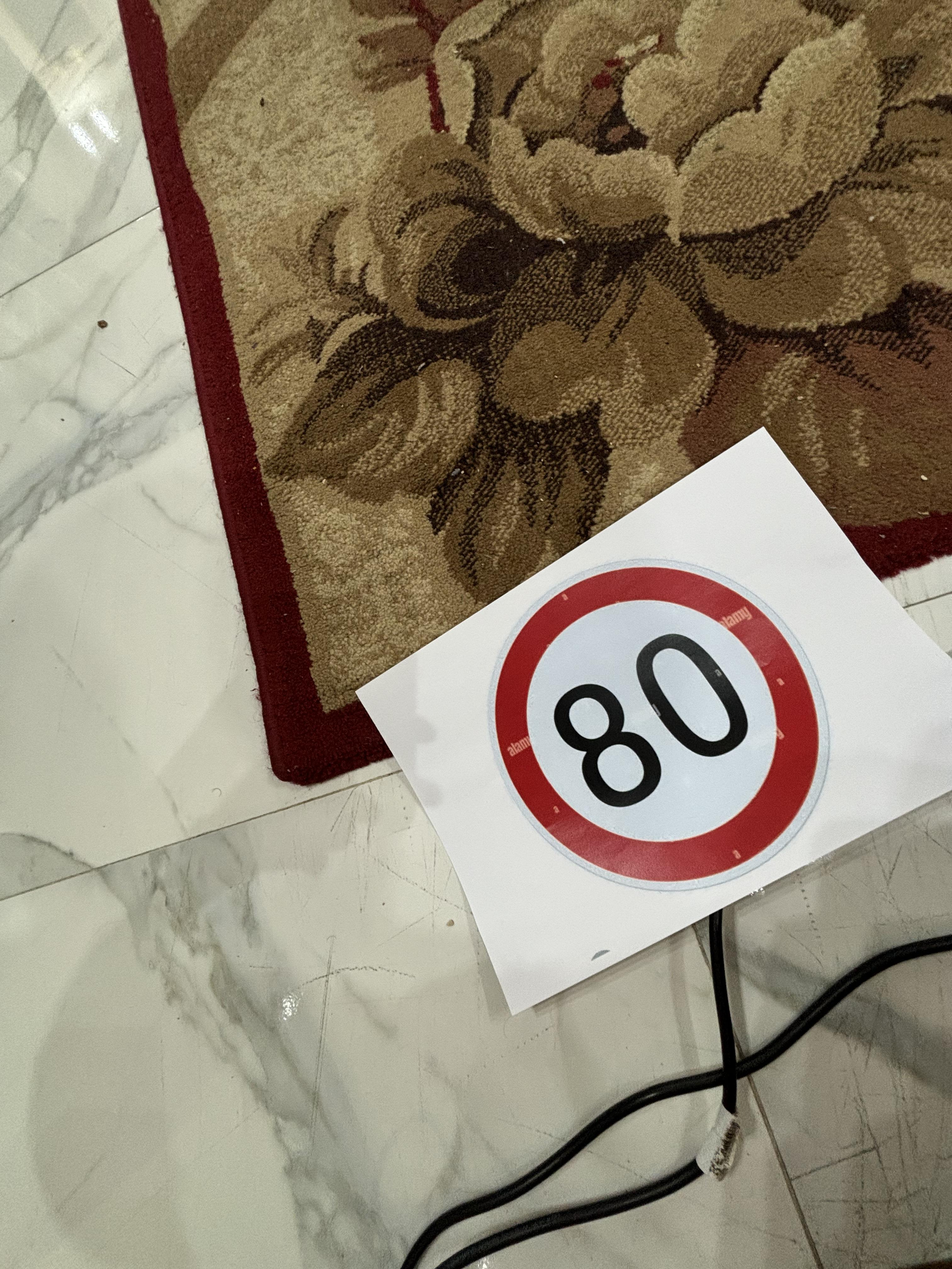80-Speed: (489, 564, 835, 890)
